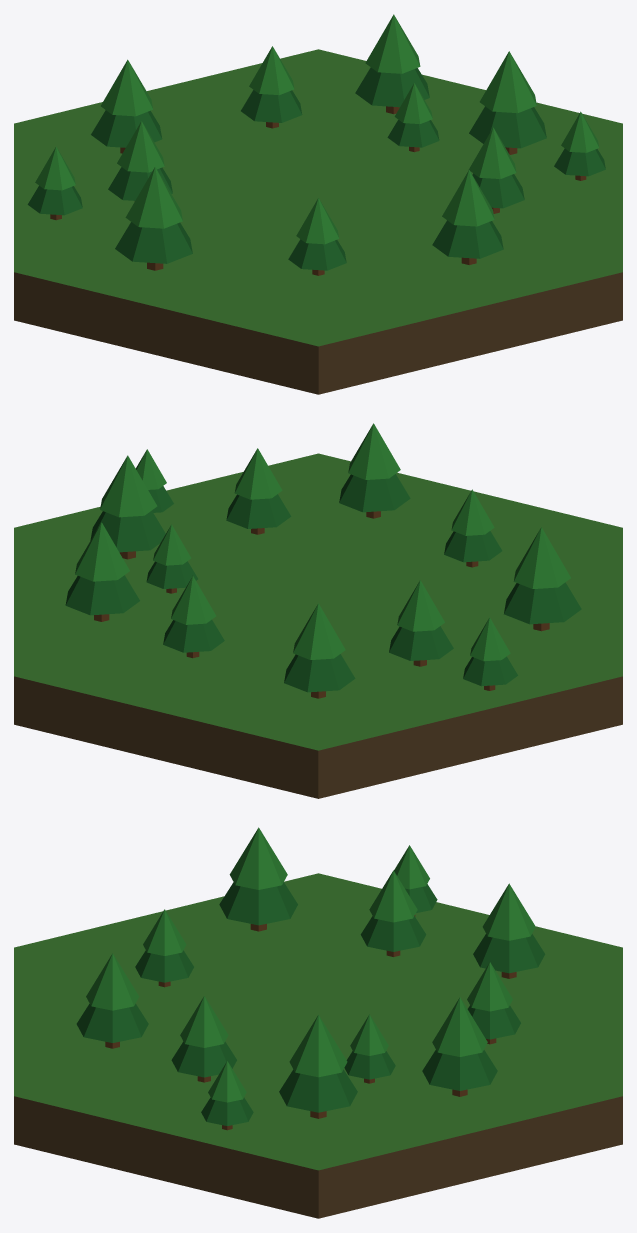
Rendered from forest.obj.
3 views of the same model, one above another, from view 1: azimuth 30°, elevation 25°; view 2: azimuth 150°, elevation 25°; view 3: azimuth 270°, elevation 25° (orthographic).
Parts seen in each view (by area): view 1: forest; view 2: forest; view 3: forest.
Part boxes in pixels (<box>): forest: <box>14,14,622,394</box>; forest: <box>14,423,622,798</box>; forest: <box>14,827,622,1218</box>.
Size of the model in its own units: 1.98 by 0.462 by 1.71.
